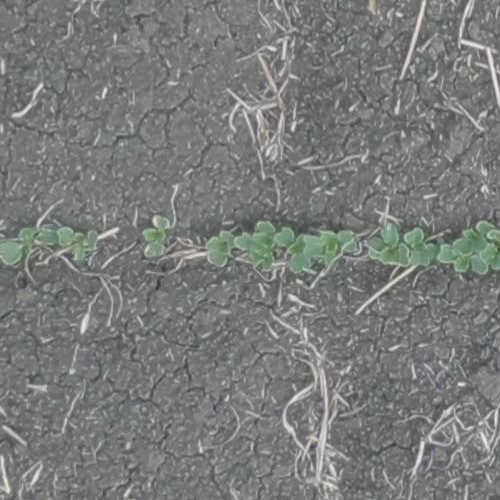clumped: (373, 218, 499, 274), (0, 224, 98, 266), (278, 229, 361, 270), (238, 222, 276, 273)
isolated: (143, 214, 170, 260), (206, 232, 234, 263)
